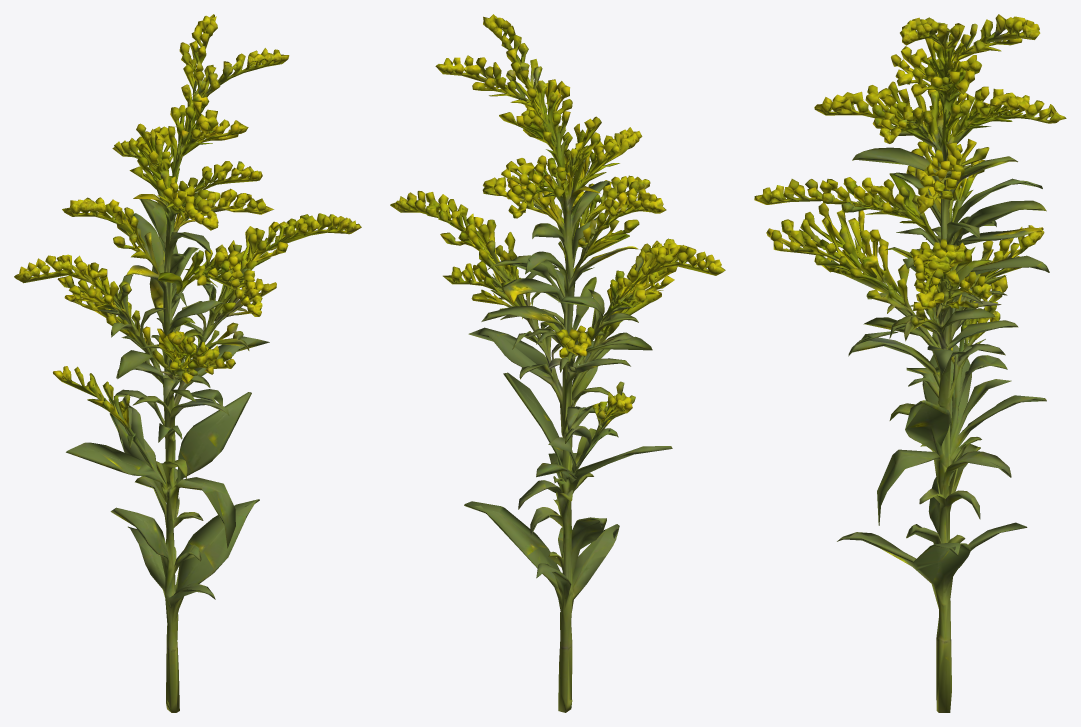
Rendered from fl-fill-solidago.glb.
3 views of the same model, side by side, from view 1: azimuth 30°, elevation 25°; view 2: azimuth 150°, elevation 25°; view 3: azimuth 270°, elevation 25° (orthographic). The views are drawn at different scales.
Parts seen in each view (by area): view 1: node_0; view 2: node_0; view 3: node_0.
Boxes of the visible parts, bbox=[...] form: node_0: bbox=[14, 14, 361, 712]; node_0: bbox=[390, 14, 725, 712]; node_0: bbox=[754, 14, 1066, 712].
Size of the model in its own units: 0.6144 by 1.13 by 0.4382.
1 material, 1 textured.
